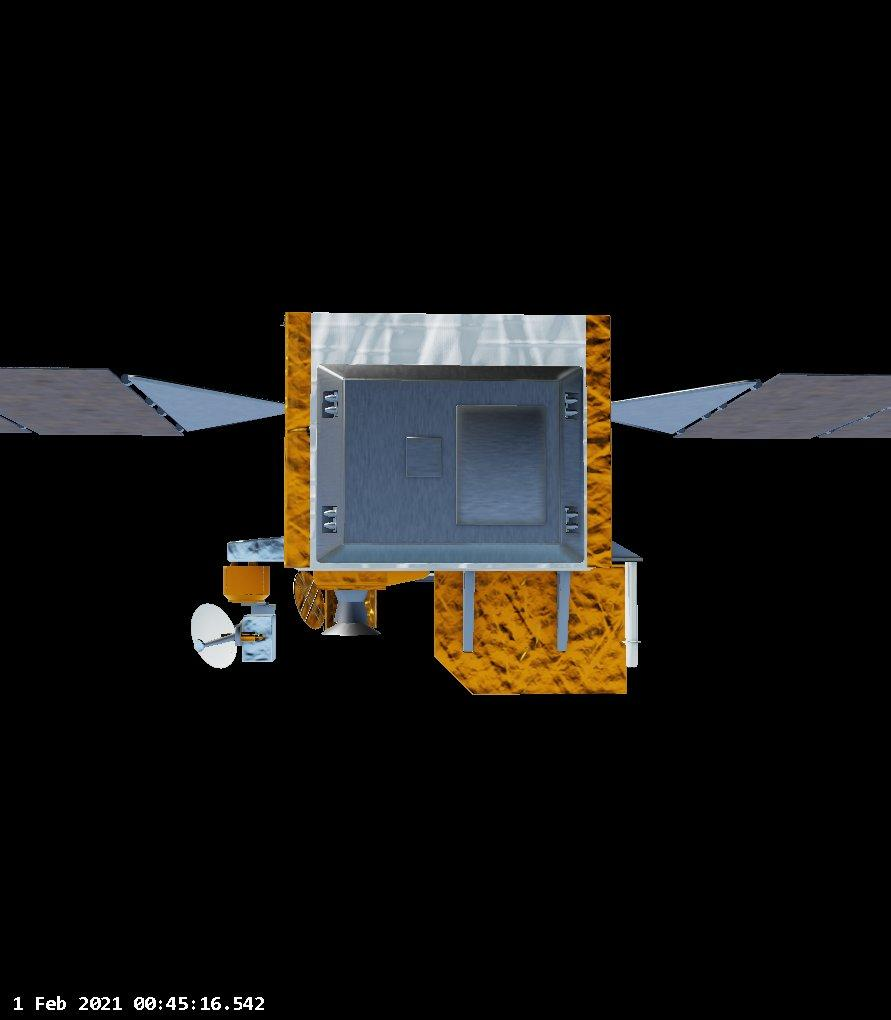antenna: (182, 591, 280, 673), (316, 580, 390, 649)
body: (272, 300, 655, 697)
solar: (0, 353, 295, 449), (604, 353, 891, 450)
